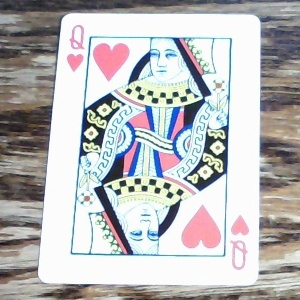card: (37, 12, 263, 288)
